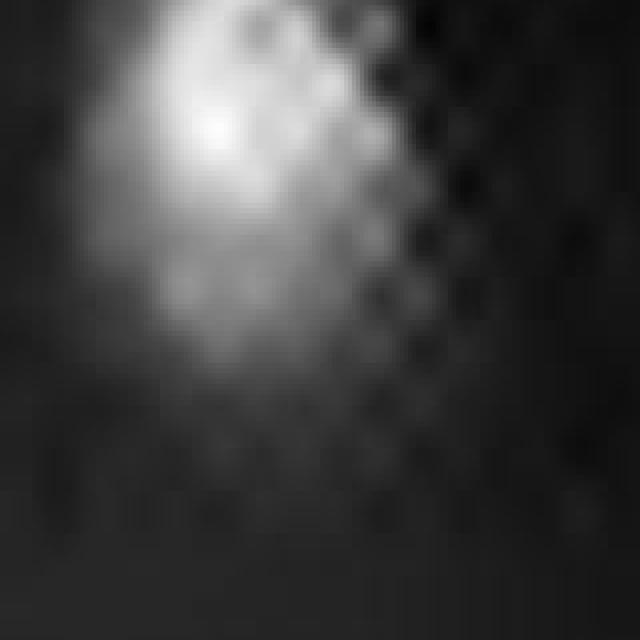person: (49, 1, 401, 454)
